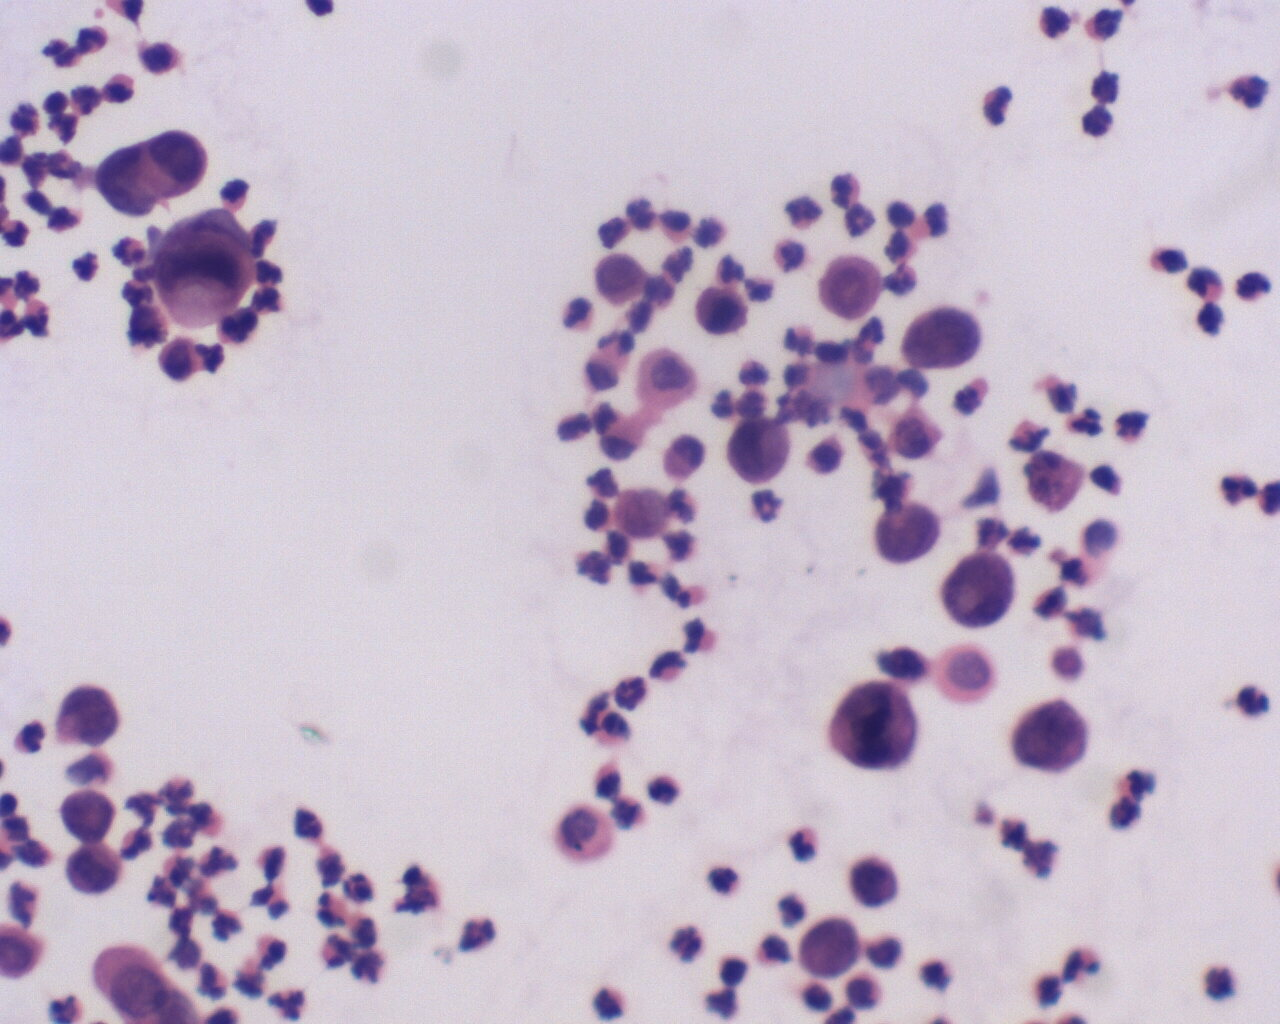ab: (157, 206, 265, 334), (93, 127, 207, 217), (827, 676, 920, 776), (895, 298, 985, 377), (1007, 692, 1088, 777), (937, 551, 1023, 630), (814, 249, 891, 325), (871, 497, 944, 566), (799, 910, 868, 982), (721, 417, 795, 484), (57, 679, 124, 748), (61, 839, 124, 898), (688, 283, 754, 338), (594, 251, 651, 309)
neutro: (778, 822, 825, 872), (1215, 465, 1261, 512), (1229, 677, 1276, 721), (1227, 67, 1269, 116), (1060, 399, 1104, 444), (1078, 6, 1128, 44), (339, 866, 379, 912), (980, 85, 1023, 126), (1030, 3, 1073, 44), (288, 805, 328, 847), (706, 861, 746, 903), (613, 673, 653, 714), (749, 484, 786, 527), (11, 716, 48, 759), (71, 18, 108, 59)
